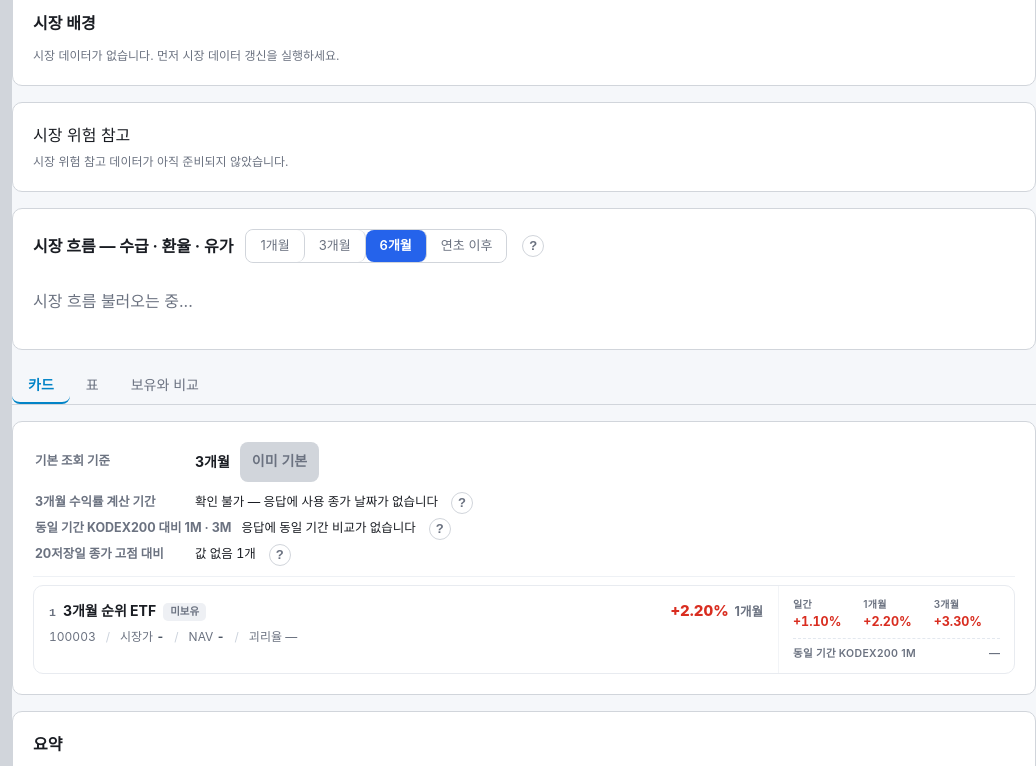
Test: 명시 저장 · 임시 변경 (POC5-26 설계 §2 · §3 · 판정 §2) › [이 기준을 기본으로] → 저장만(시장 GET 없음) · 기본 1개월 · '이미 기본'
(page scrolled)
Click the tab "표". click: coordinates (92, 384)
box: [70, 366, 115, 404]
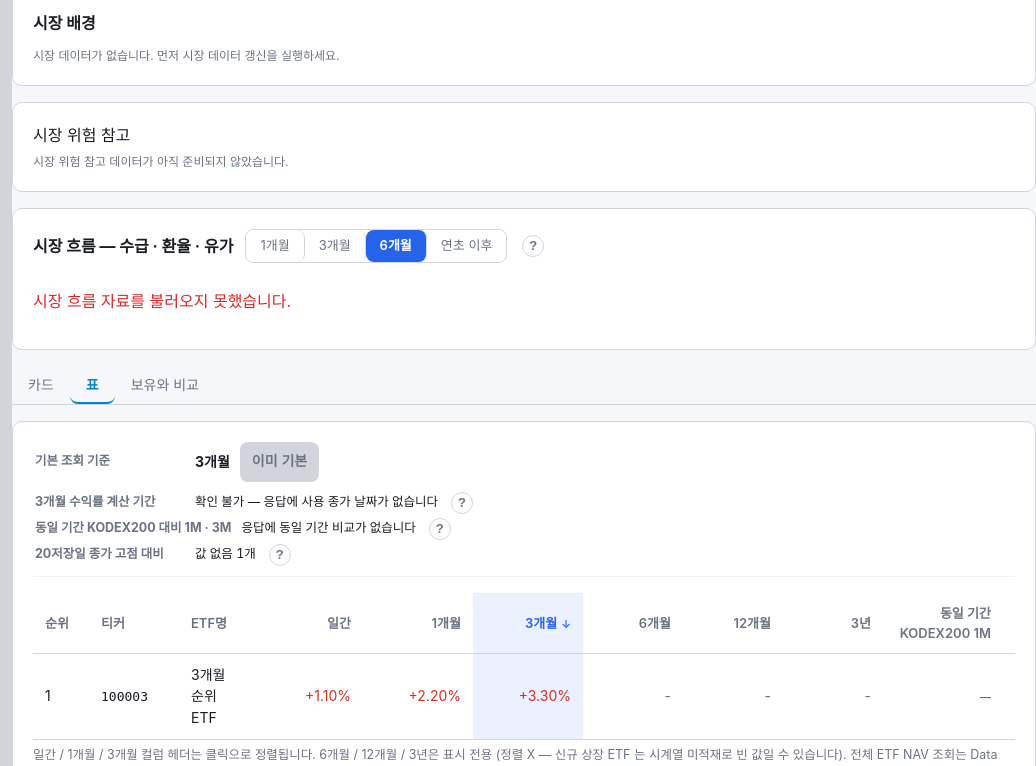
Click the column heading "1개월". click: coordinates (418, 623)
box: [363, 592, 473, 653]
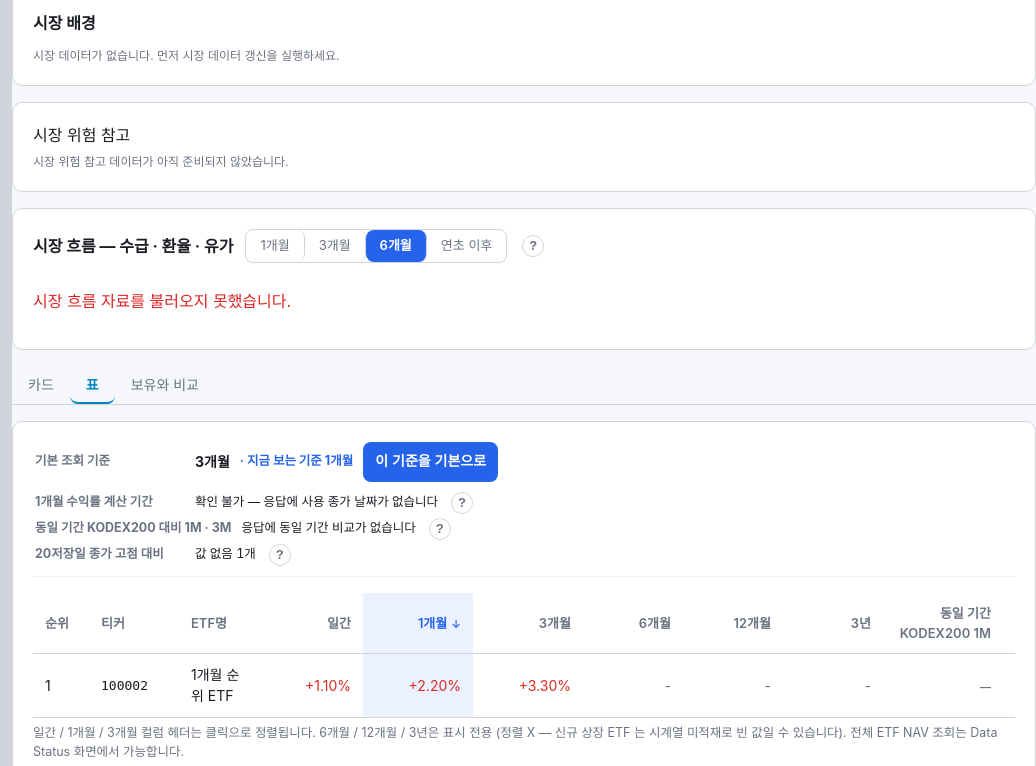
Click the button "이 기준을 기본으로". click: coordinates (431, 462)
box: [363, 442, 498, 482]
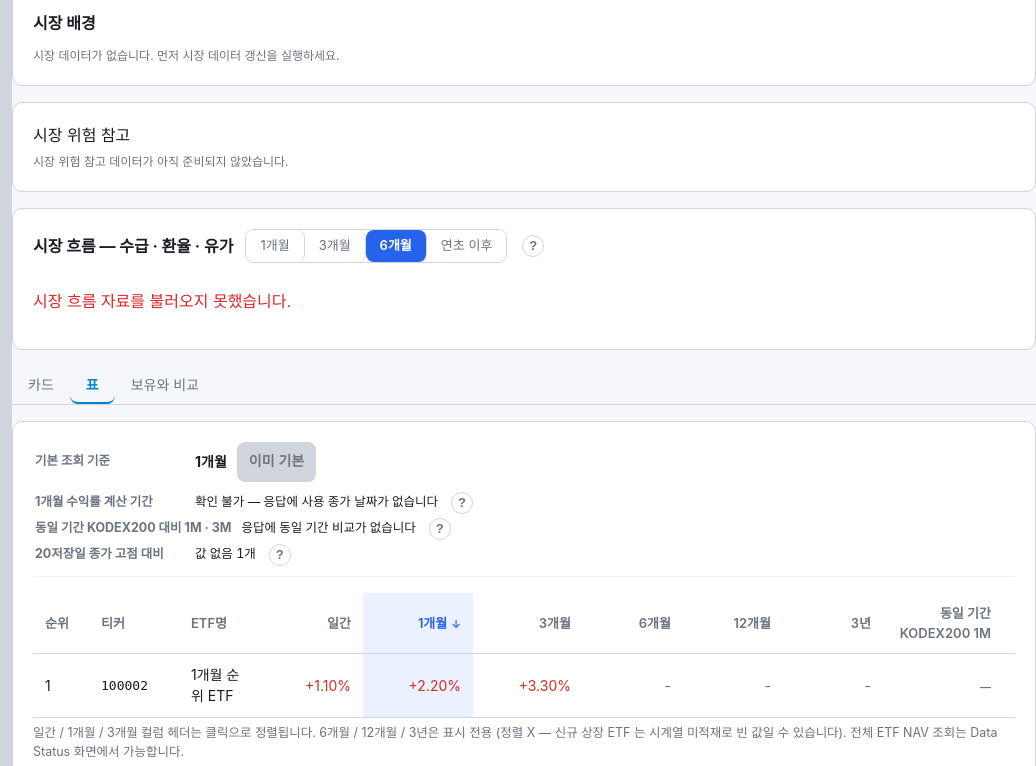
Expected: the text "1개월" is shown, [195, 451, 227, 472]
Expected: the text with test id "market-basis-default" no longer shows "지금 보는 기준"
Expected: the button "이미 기본" is shown, [237, 442, 316, 482]
